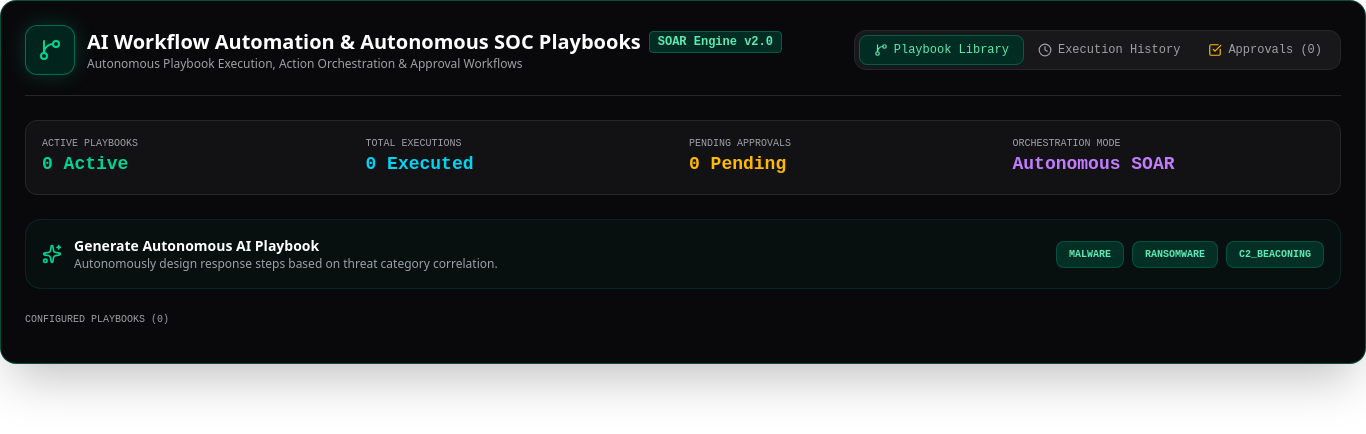
Test case: WorkflowAutomation Component › switches to Approvals tab
The image size is (1366, 434).
Check: the heading "AI Workflow Automation & Autonomous SOC Playbooks" is shown, box [87,28,641,55]
Click the button "Approvals (0)": (1265, 50) [1194,36,1336,64]
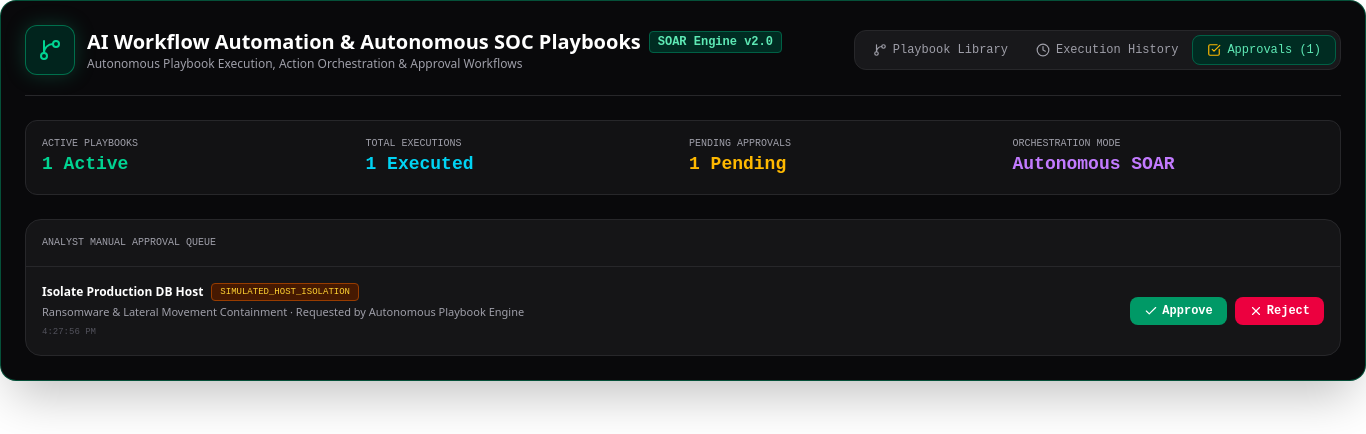
Check: the text "Analyst Manual Approval Queue" is shown, box [26,220,1340,267]
